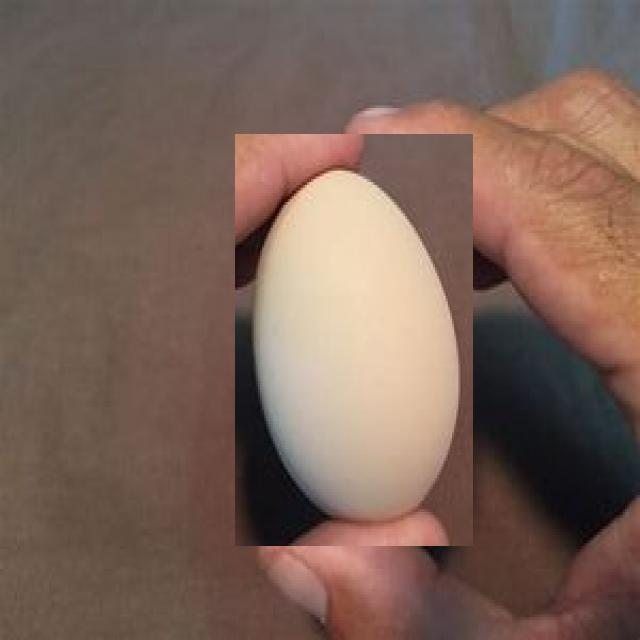Egg: (235, 134, 473, 546)
